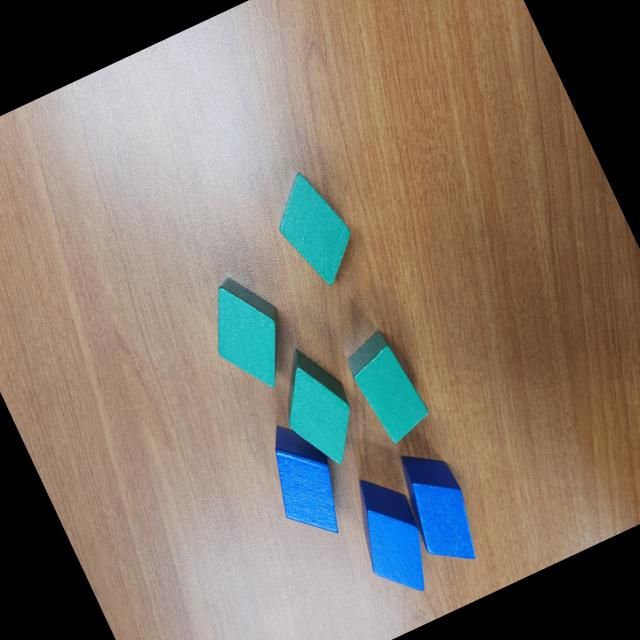blue: (336, 465, 446, 606), (250, 414, 356, 549), (387, 440, 491, 576)
green: (259, 336, 374, 478), (191, 266, 305, 400), (260, 162, 368, 294), (340, 326, 436, 448)
